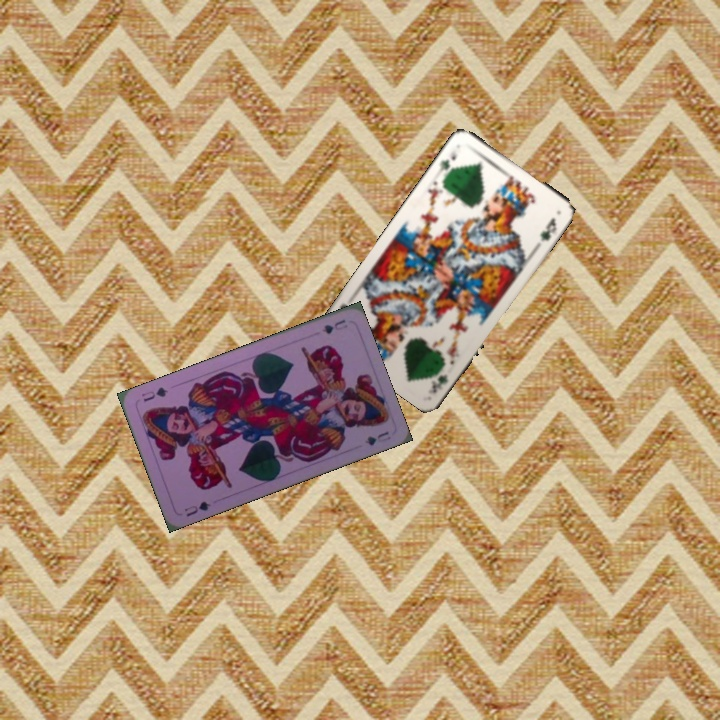GK: (435, 147, 460, 178), (428, 370, 451, 395)
GU: (180, 497, 213, 519), (318, 315, 350, 336)
